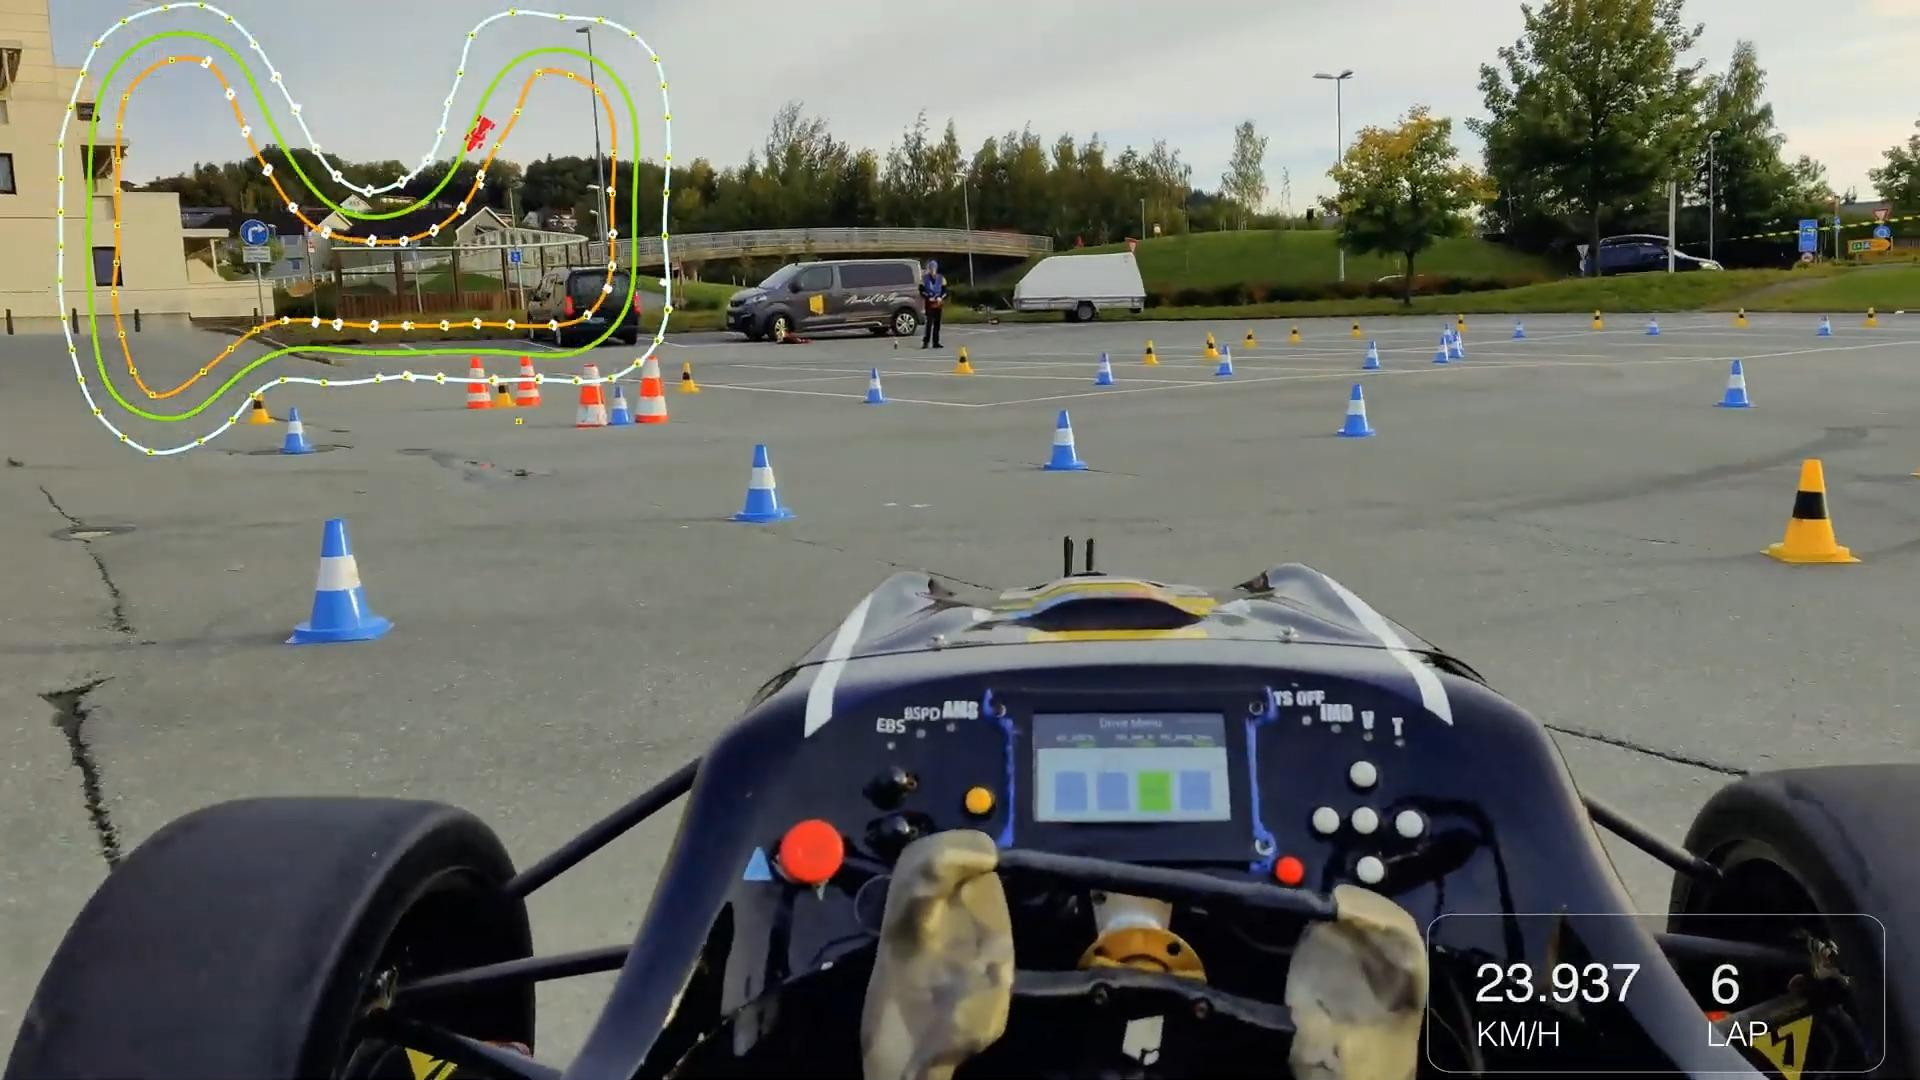blue_cone: (273, 510, 410, 649), (729, 436, 800, 533), (1038, 406, 1093, 476), (1332, 378, 1382, 443), (274, 398, 318, 456), (1713, 357, 1756, 414), (857, 365, 893, 410), (1092, 348, 1120, 389), (1212, 343, 1240, 381), (608, 385, 633, 427), (1361, 338, 1385, 372), (1433, 336, 1453, 364), (1815, 314, 1837, 338), (1448, 336, 1465, 360), (1644, 314, 1662, 338), (1510, 318, 1527, 340), (1441, 322, 1457, 344), (1452, 328, 1464, 347)
large_orange_cone: (567, 360, 613, 430), (634, 353, 671, 429), (460, 351, 493, 411), (517, 353, 546, 409)
yellow_cone: (1755, 451, 1866, 568), (244, 384, 274, 427), (949, 342, 978, 377), (492, 372, 516, 411), (676, 359, 702, 394), (1137, 338, 1159, 367), (1588, 309, 1605, 330), (1288, 323, 1304, 345), (1865, 305, 1879, 327), (1244, 324, 1258, 345), (1207, 335, 1220, 357), (1734, 306, 1749, 326), (1350, 319, 1365, 338), (1456, 313, 1468, 332), (1204, 332, 1215, 351)
